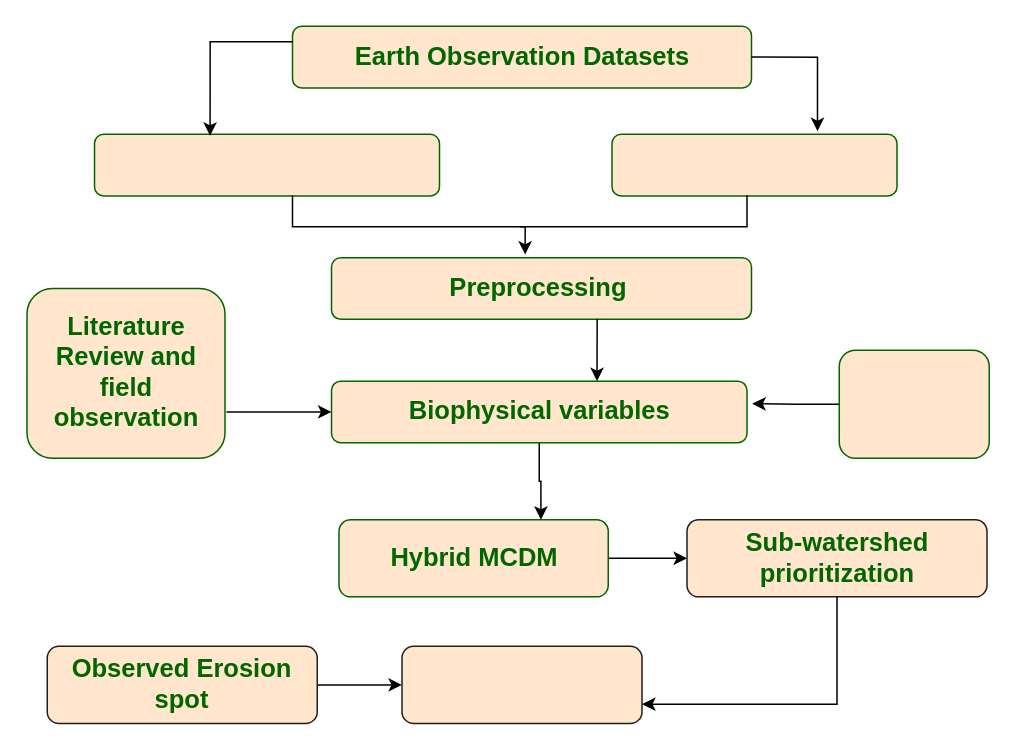
Some shapes in this 1016 by 750 pixel diagram are drawn without their labels. Each missing label, with the centre of its shape:
"Digital Elevation Model" goes at (x=266, y=164).
"Field soil sampling" goes at (x=913, y=403).
"Landsat 8 OLI (2024)" goes at (x=753, y=164).
"Validation" goes at (x=521, y=684).
